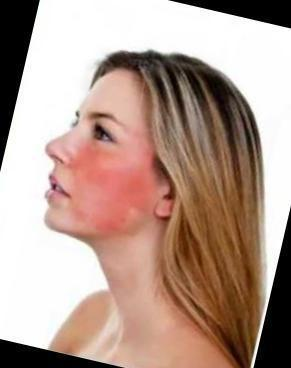Drunk: (33, 79, 161, 239)
